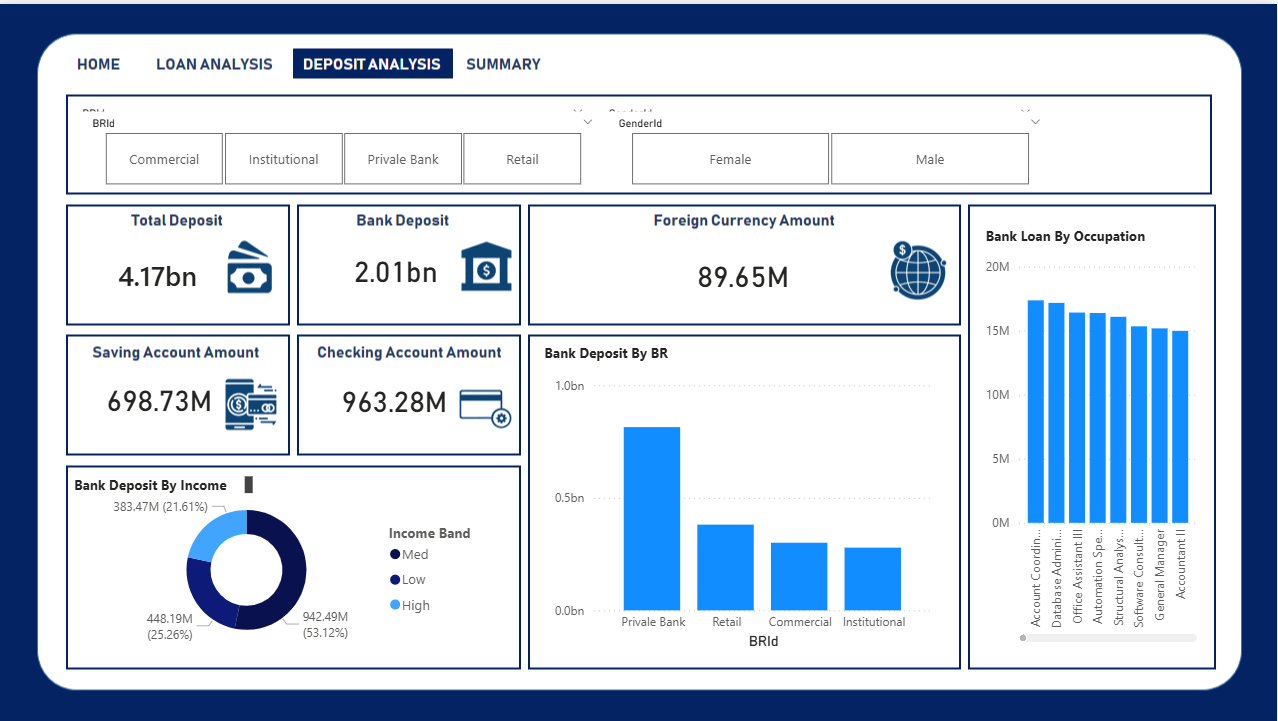

The dashboard page shown, as its layout file describes it:
{"tool":"powerbi","page":{"name":"Deposit Analysis","canvas":[1280,720],"ordinal":2},"visuals":[{"type":"card","fields":{"Values":["Sum(Banking_Clients.Bank Deposits)"]},"box":[327.7,229.4,122.9,51.4],"z":0},{"type":"card","fields":{"Values":["Sum(Banking_Clients.Checking Accounts)"]},"box":[318.6,360,157.1,71.4],"z":1000},{"type":"card","fields":{"Values":["Sum(Banking_Clients.Saving Accounts)"]},"box":[84.3,358.6,157.1,72.9],"z":2000},{"type":"card","fields":{"Values":["Sum(Banking_Clients.Bank Deposits)"]},"box":[337.7,239.4,122.9,51.4],"z":3000},{"type":"textbox","box":[115.7,248.6,114.3,55.7],"z":4000},{"type":"donutChart","fields":{"Category":["Banking_Clients.Income Band"],"Y":["Sum(Banking_Clients.Bank Loans)"]},"box":[102.9,482.9,394.3,167.1],"z":5000},{"type":"textbox","box":[72.1,467.9,188.6,28.6],"z":6000},{"type":"textbox","box":[542.2,334.4,224.4,28.9],"z":7000},{"type":"clusteredColumnChart","fields":{"Category":["Banking_Clients.BRId"],"Y":["Sum(Banking_Clients.Bank Loans)"]},"box":[552.9,367.1,388.6,282.9],"z":8000},{"type":"card","fields":{"Values":["Sum(Banking_Clients.Foreign Currency Account)"]},"box":[671.4,242.9,150,57.1],"z":9000},{"type":"textbox","box":[984.3,217.1,188.6,28.6],"z":10000},{"type":"clusteredColumnChart","fields":{"Category":["Banking_Clients.Occupation"],"Y":["Sum(Banking_Clients.Bank Loans)"]},"box":[984.3,248.6,221.4,394.3],"z":11000},{"type":"slicer","fields":{"Values":["Banking_Clients.BRId"]},"box":[72.9,97.1,525.7,80],"z":12000},{"type":"slicer","fields":{"Values":["Banking_Clients.GenderId"]},"box":[598.6,97.1,447.1,80],"z":13000},{"type":"slicer","fields":{"Values":["Banking_Clients.BRId"]},"box":[82.9,107.1,525.7,80],"z":14000},{"type":"slicer","fields":{"Values":["Banking_Clients.GenderId"]},"box":[608.6,107.1,447.1,80],"z":15000},{"type":"actionButton","box":[57.6,42.5,89.2,37],"z":16000},{"type":"actionButton","box":[128.6,25.7,171.4,54.3],"z":17000},{"type":"actionButton","box":[465.2,43.9,89.2,37],"z":18000}]}

Visuals, with their boxes in screenshot pixels (x1, y1, x2, y2), scaled from the page's 1280x720 canvas onto the 1278x721 screenshot:
card - Sum(Banking_Clients.Bank Deposits): <box>327,230,450,281</box>
card - Sum(Banking_Clients.Checking Accounts): <box>318,360,475,432</box>
card - Sum(Banking_Clients.Saving Accounts): <box>84,359,241,432</box>
card - Sum(Banking_Clients.Bank Deposits): <box>337,240,460,291</box>
textbox: <box>116,249,230,305</box>
donutChart - Banking_Clients.Income Band x Sum(Banking_Clients.Bank Loans): <box>103,484,496,651</box>
textbox: <box>72,469,260,497</box>
textbox: <box>541,335,765,364</box>
clusteredColumnChart - Banking_Clients.BRId x Sum(Banking_Clients.Bank Loans): <box>552,368,940,651</box>
card - Sum(Banking_Clients.Foreign Currency Account): <box>670,243,820,300</box>
textbox: <box>983,217,1171,246</box>
clusteredColumnChart - Banking_Clients.Occupation x Sum(Banking_Clients.Bank Loans): <box>983,249,1204,644</box>
slicer - Banking_Clients.BRId: <box>73,97,598,177</box>
slicer - Banking_Clients.GenderId: <box>598,97,1044,177</box>
slicer - Banking_Clients.BRId: <box>83,107,608,187</box>
slicer - Banking_Clients.GenderId: <box>608,107,1054,187</box>
actionButton: <box>58,43,147,80</box>
actionButton: <box>128,26,300,80</box>
actionButton: <box>464,44,554,81</box>
